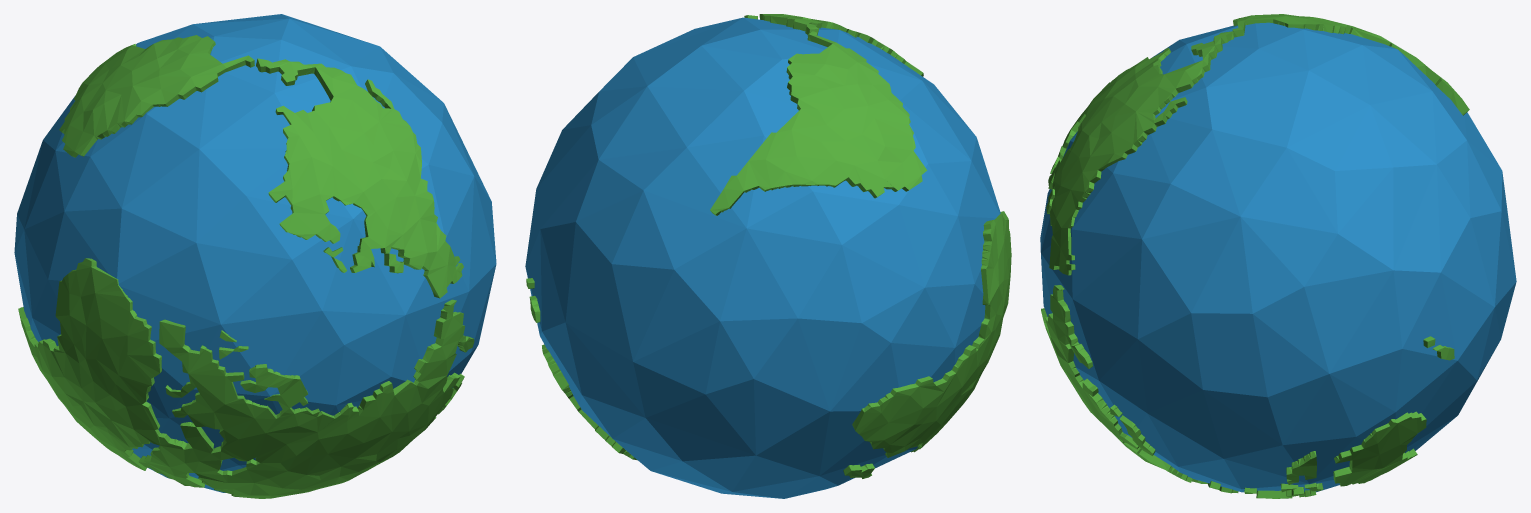
The model's file is earth.obj.
3 renders of one model, left to right at view 1: azimuth 30°, elevation 25°; view 2: azimuth 150°, elevation 25°; view 3: azimuth 270°, elevation 25°, orthographic.
Visible parts, largest first — view 1: Oceans, Land_; view 2: Oceans, Land_; view 3: Oceans, Land_.
Part boxes in pixels (x1,y1,x2,y2): Oceans: [14, 14, 496, 492]; Land_: [18, 35, 474, 498]; Oceans: [525, 17, 1000, 498]; Land_: [526, 14, 1011, 478]; Oceans: [1040, 22, 1516, 492]; Land_: [1041, 14, 1469, 498].
Size of the model in its own units: 206 by 207 by 206.
